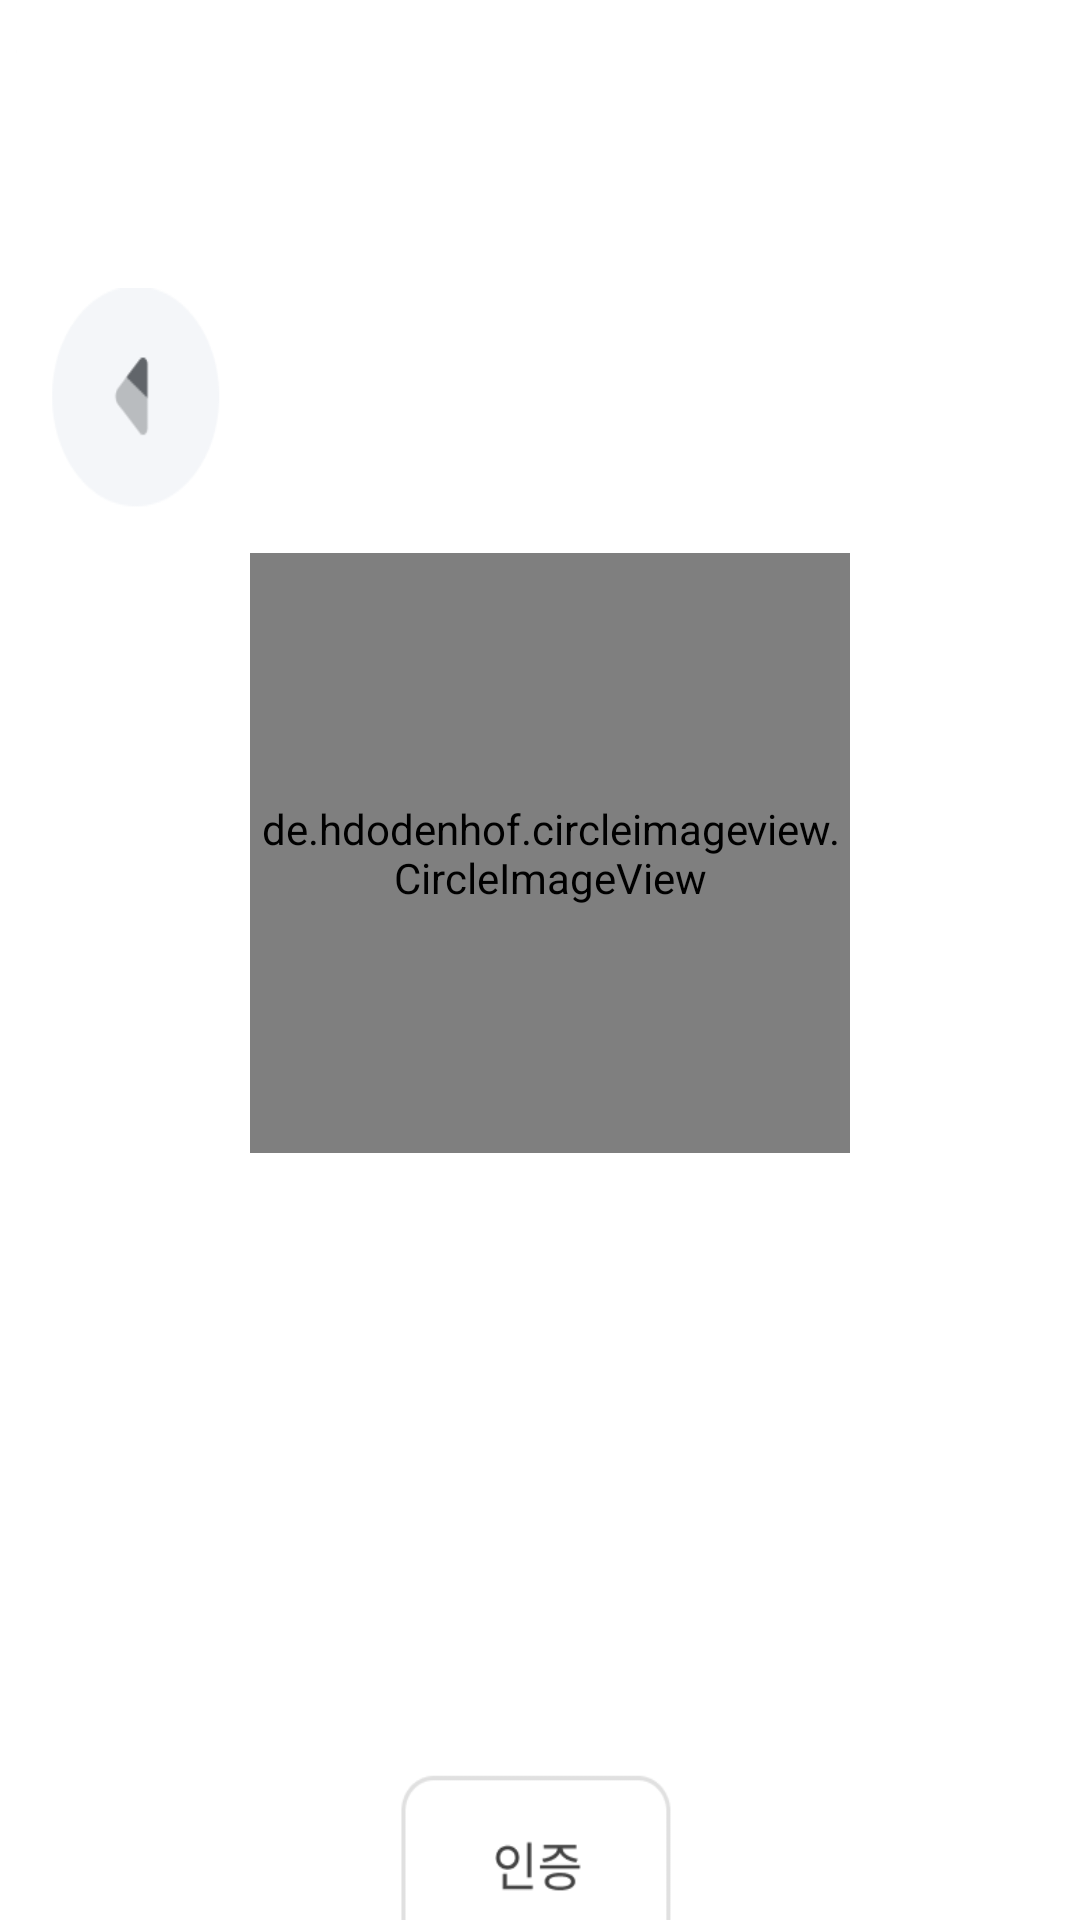

Screen size 1080px×1920px. Icon name, then its center in pixels as (x,y):
userinfoeback: (132,396)
